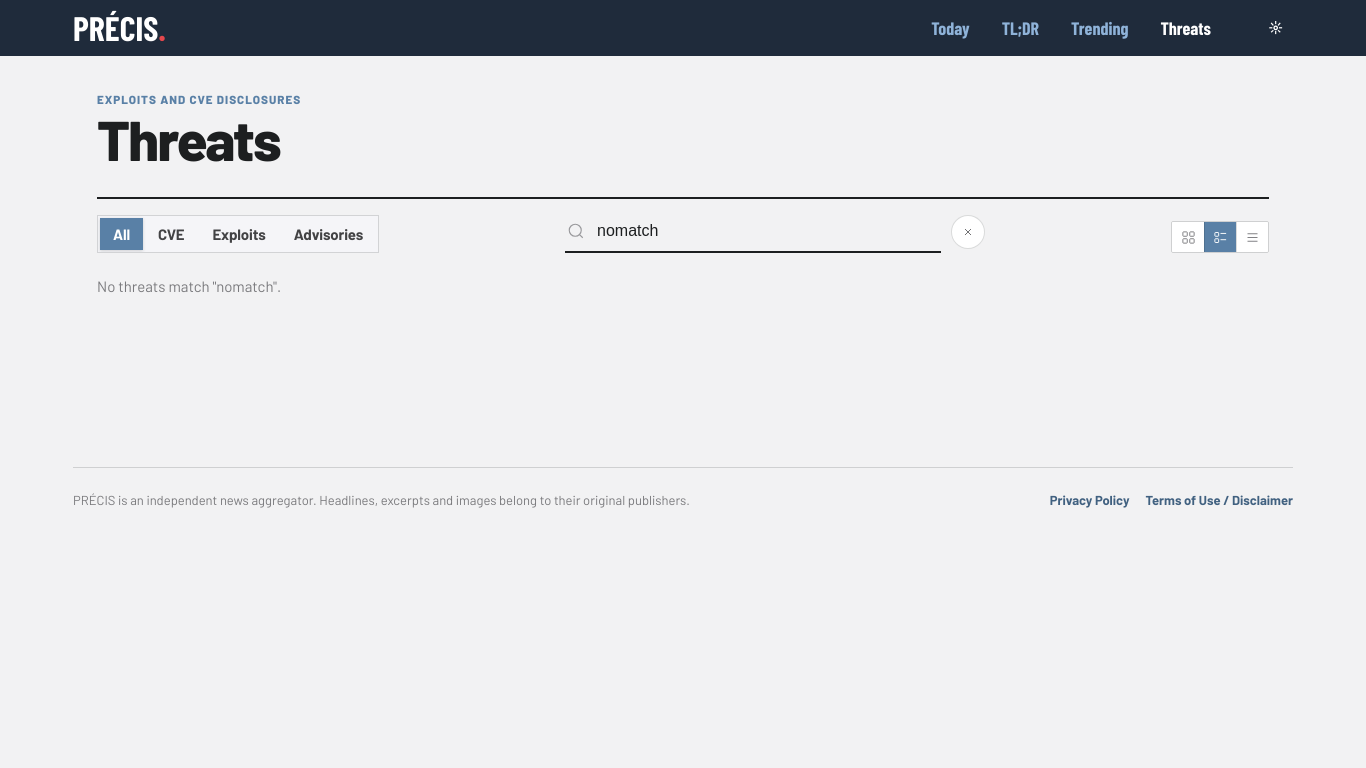
Test: ThreatsPage search › a query from the URL is applied on load and can be cleared
Expected: the text "No threats match \"nomatch\"." is shown, 97,277 -> 281,295
Click the button named "Clear search".
click(968, 232)  # box 951,215 -> 985,249
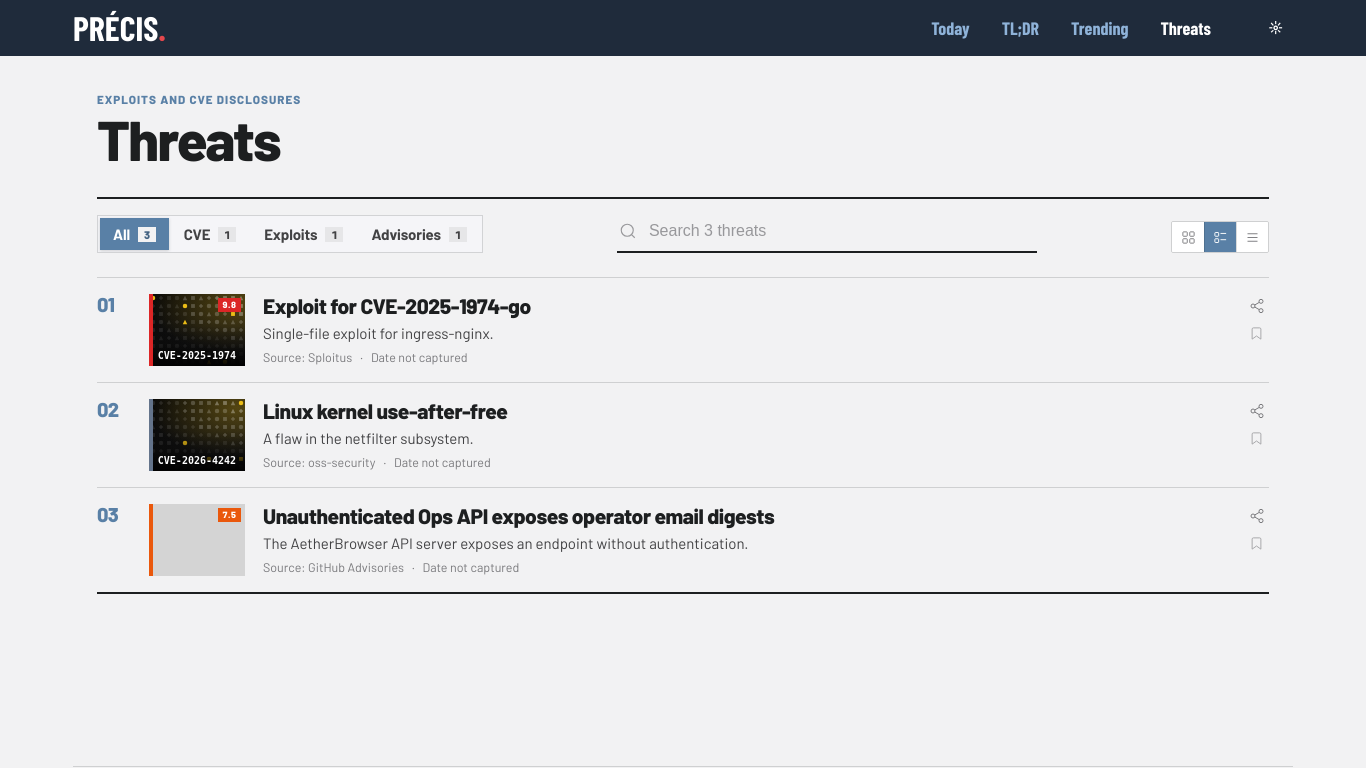
Expected: the link "Linux kernel use-after-free" is shown, 263,398 -> 508,423
